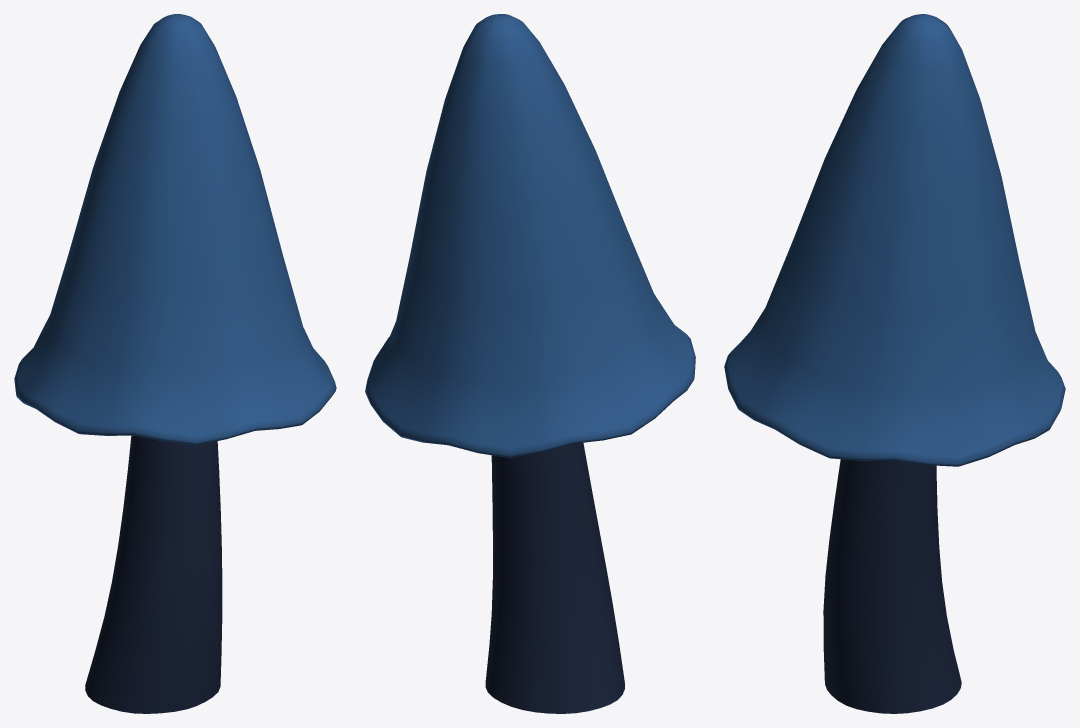
The model's file is BlueMush_C.fbx.
3 views of the same model, side by side, from view 1: azimuth 30°, elevation 25°; view 2: azimuth 150°, elevation 25°; view 3: azimuth 270°, elevation 25° (orthographic). The views are drawn at different scales.
Parts seen in each view (by area): view 1: BlueMush_C; view 2: BlueMush_C; view 3: BlueMush_C.
Part boxes in pixels (box(x1,y1,x2,y2)): BlueMush_C: box(14, 14, 336, 713); BlueMush_C: box(365, 14, 695, 713); BlueMush_C: box(724, 14, 1065, 713).
Size of the model in its own units: 148 by 148 by 328.
